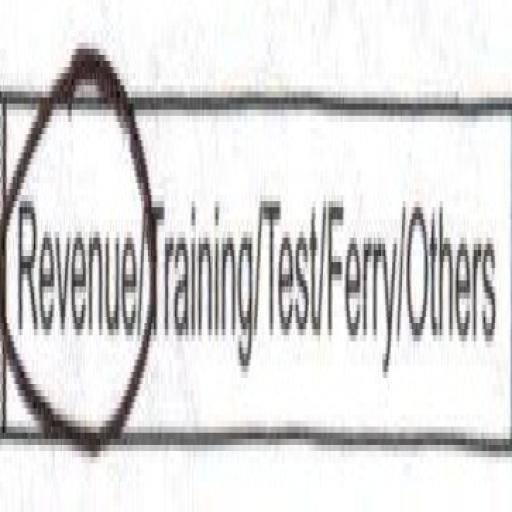check: (0, 12, 144, 476)
